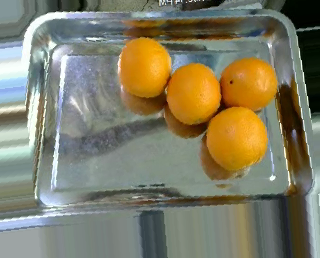Orange: (204, 106, 267, 170), (118, 36, 173, 98), (166, 62, 221, 123), (220, 56, 278, 111)
